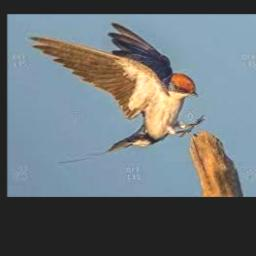Swallow: (25, 22, 204, 164)
